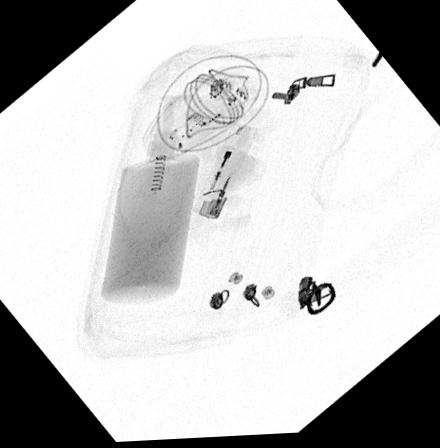Lighter: (191, 125, 258, 222)
